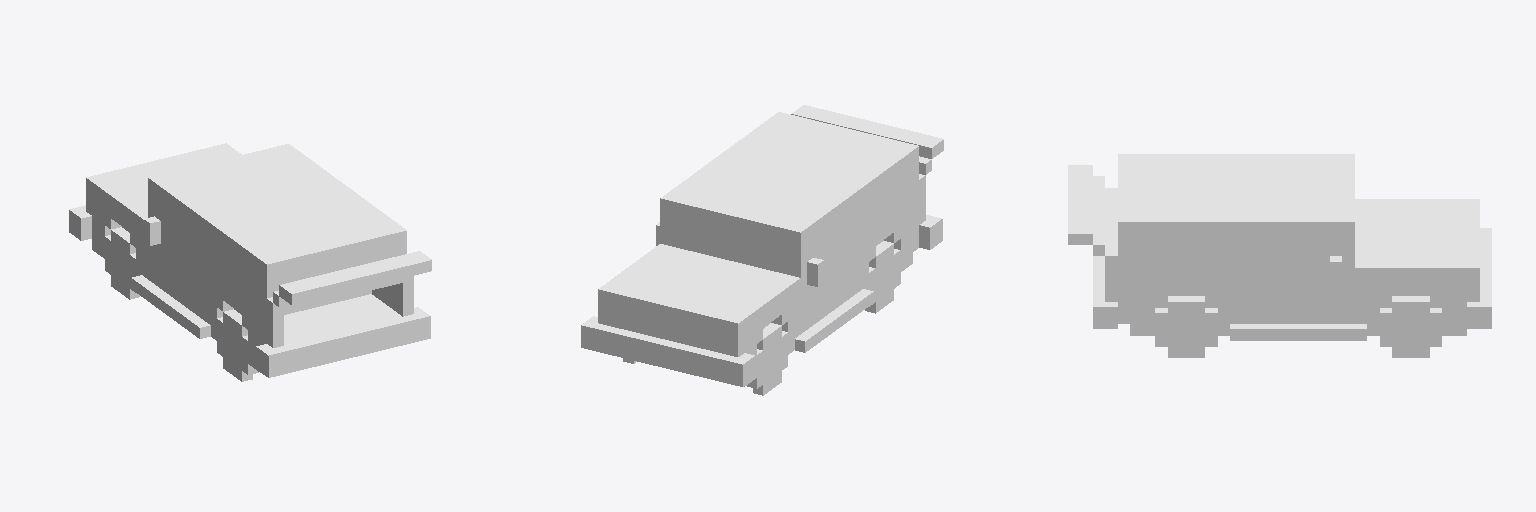
The model's file is car-2.obj.
3 views of the same model, side by side, from view 1: azimuth 30°, elevation 25°; view 2: azimuth 150°, elevation 25°; view 3: azimuth 270°, elevation 25° (orthographic).
Parts seen in each view (by area): view 1: object 1; view 2: object 1; view 3: object 1.
Part boxes in pixels (x1,y1,x2,y2): object 1: (69, 143, 431, 381); object 1: (581, 105, 943, 395); object 1: (1068, 154, 1491, 357).
Bounding box in the file's own units: 1.5 × 1.2 × 3.4.